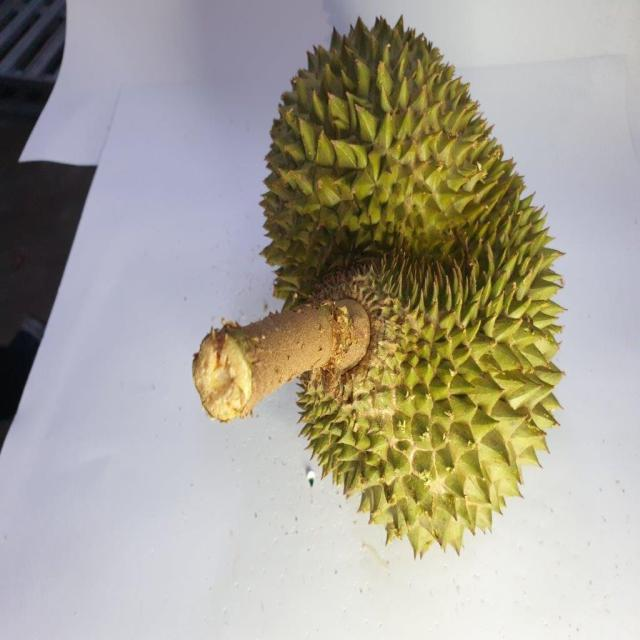immature: (260, 12, 566, 558)
